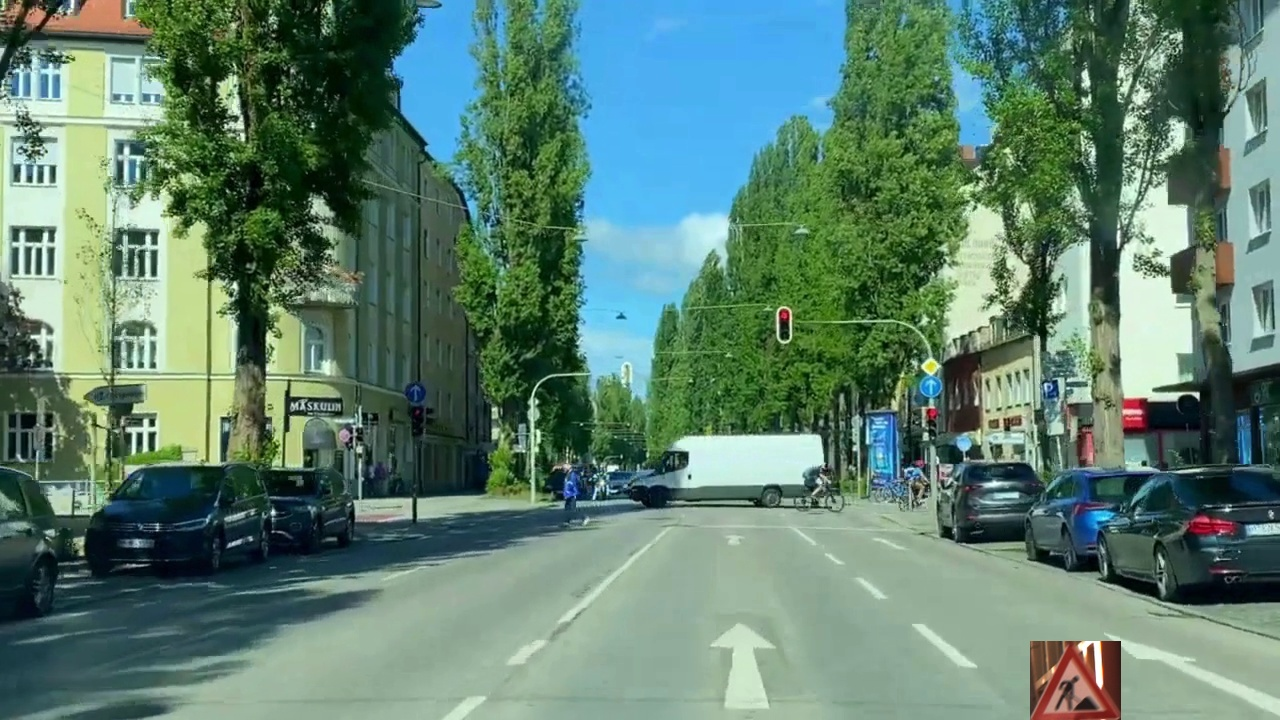Road work: (1030, 641, 1121, 720)
